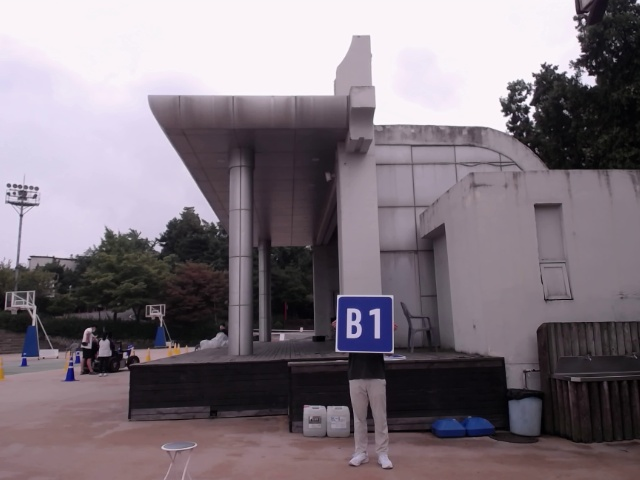delivery_b1: (336, 295, 394, 353)
